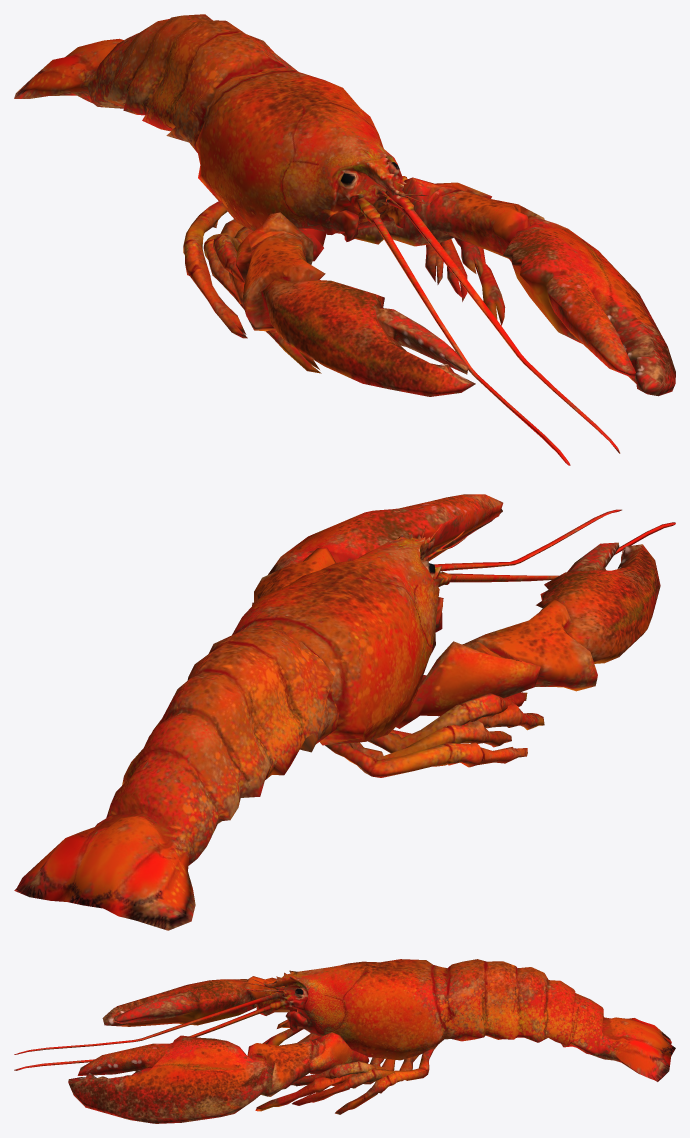
Rendered from lobster.glb.
3 views of the same model, one above another, from view 1: azimuth 30°, elevation 25°; view 2: azimuth 150°, elevation 25°; view 3: azimuth 270°, elevation 25° (orthographic). The views are drawn at different scales.
Parts seen in each view (by area): view 1: defaultMaterial.005, defaultMaterial.004, defaultMaterial, defaultMaterial.003, defaultMaterial.001, defaultMaterial.002; view 2: defaultMaterial.005, defaultMaterial.004, defaultMaterial, defaultMaterial.002, defaultMaterial.001, defaultMaterial.003; view 3: defaultMaterial.005, defaultMaterial.004, defaultMaterial.003, defaultMaterial.001, defaultMaterial, defaultMaterial.002.
Boxes of the visible parts, left/top/right/bottom form: defaultMaterial.005: left=14, top=14, right=620, bottom=465; defaultMaterial.004: left=235, top=177, right=675, bottom=396; defaultMaterial: left=183, top=176, right=443, bottom=338; defaultMaterial.003: left=229, top=237, right=505, bottom=373; defaultMaterial.001: left=203, top=219, right=467, bottom=335; defaultMaterial.002: left=213, top=226, right=483, bottom=282; defaultMaterial.005: left=14, top=509, right=675, bottom=930; defaultMaterial.004: left=252, top=494, right=660, bottom=728; defaultMaterial: left=325, top=742, right=527, bottom=777; defaultMaterial.002: left=368, top=692, right=527, bottom=753; defaultMaterial.001: left=350, top=720, right=511, bottom=759; defaultMaterial.003: left=390, top=702, right=544, bottom=737; defaultMaterial.005: left=14, top=959, right=675, bottom=1081; defaultMaterial.004: left=68, top=976, right=369, bottom=1123; defaultMaterial.003: left=255, top=1026, right=384, bottom=1111; defaultMaterial.001: left=292, top=1033, right=418, bottom=1105; defaultMaterial: left=310, top=1033, right=433, bottom=1114; defaultMaterial.002: left=277, top=1019, right=395, bottom=1086.
Bounding box in the file's own units: 13.19 × 7.21 × 35.85.
1 material, 1 textured.
